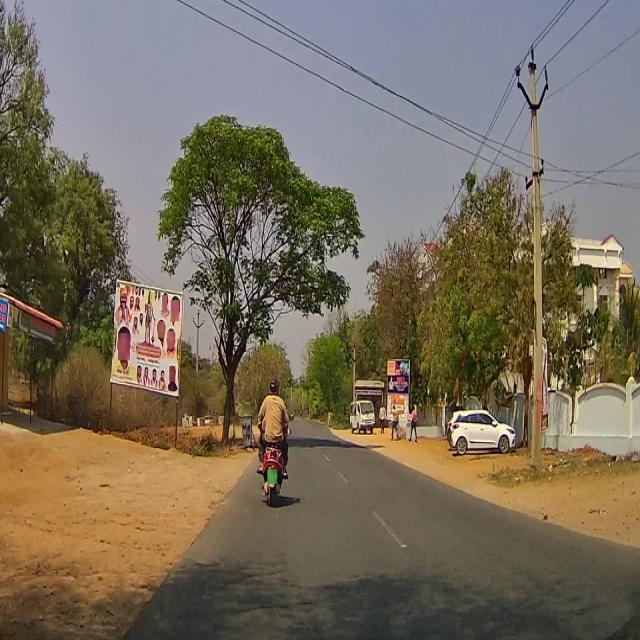car ahead at: (444, 402, 516, 461)
electric pole ahead at: (513, 38, 553, 485)
motorcycle ahead at: (254, 431, 294, 499)
